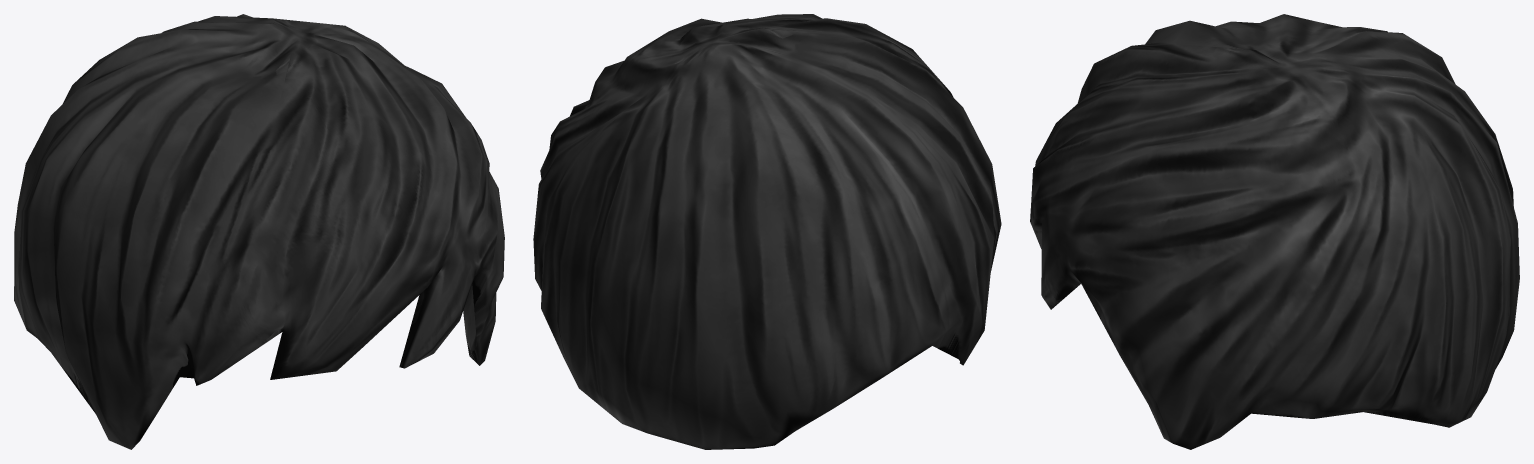
File: AF_M_hair_27.fbx
The picture shows the model from 3 angles, left to right: view 1: azimuth 30°, elevation 25°; view 2: azimuth 150°, elevation 25°; view 3: azimuth 270°, elevation 25°; orthographic projection. The views are drawn at different scales.
Parts seen in each view (by area): view 1: AF_M_hair_27; view 2: AF_M_hair_27; view 3: AF_M_hair_27.
Part boxes in pixels (left/top/right/bottom): AF_M_hair_27: left=14, top=14, right=504, bottom=449; AF_M_hair_27: left=533, top=14, right=1001, bottom=449; AF_M_hair_27: left=1030, top=14, right=1519, bottom=449.
Bounding box in the file's own units: 712 × 570 × 714.
